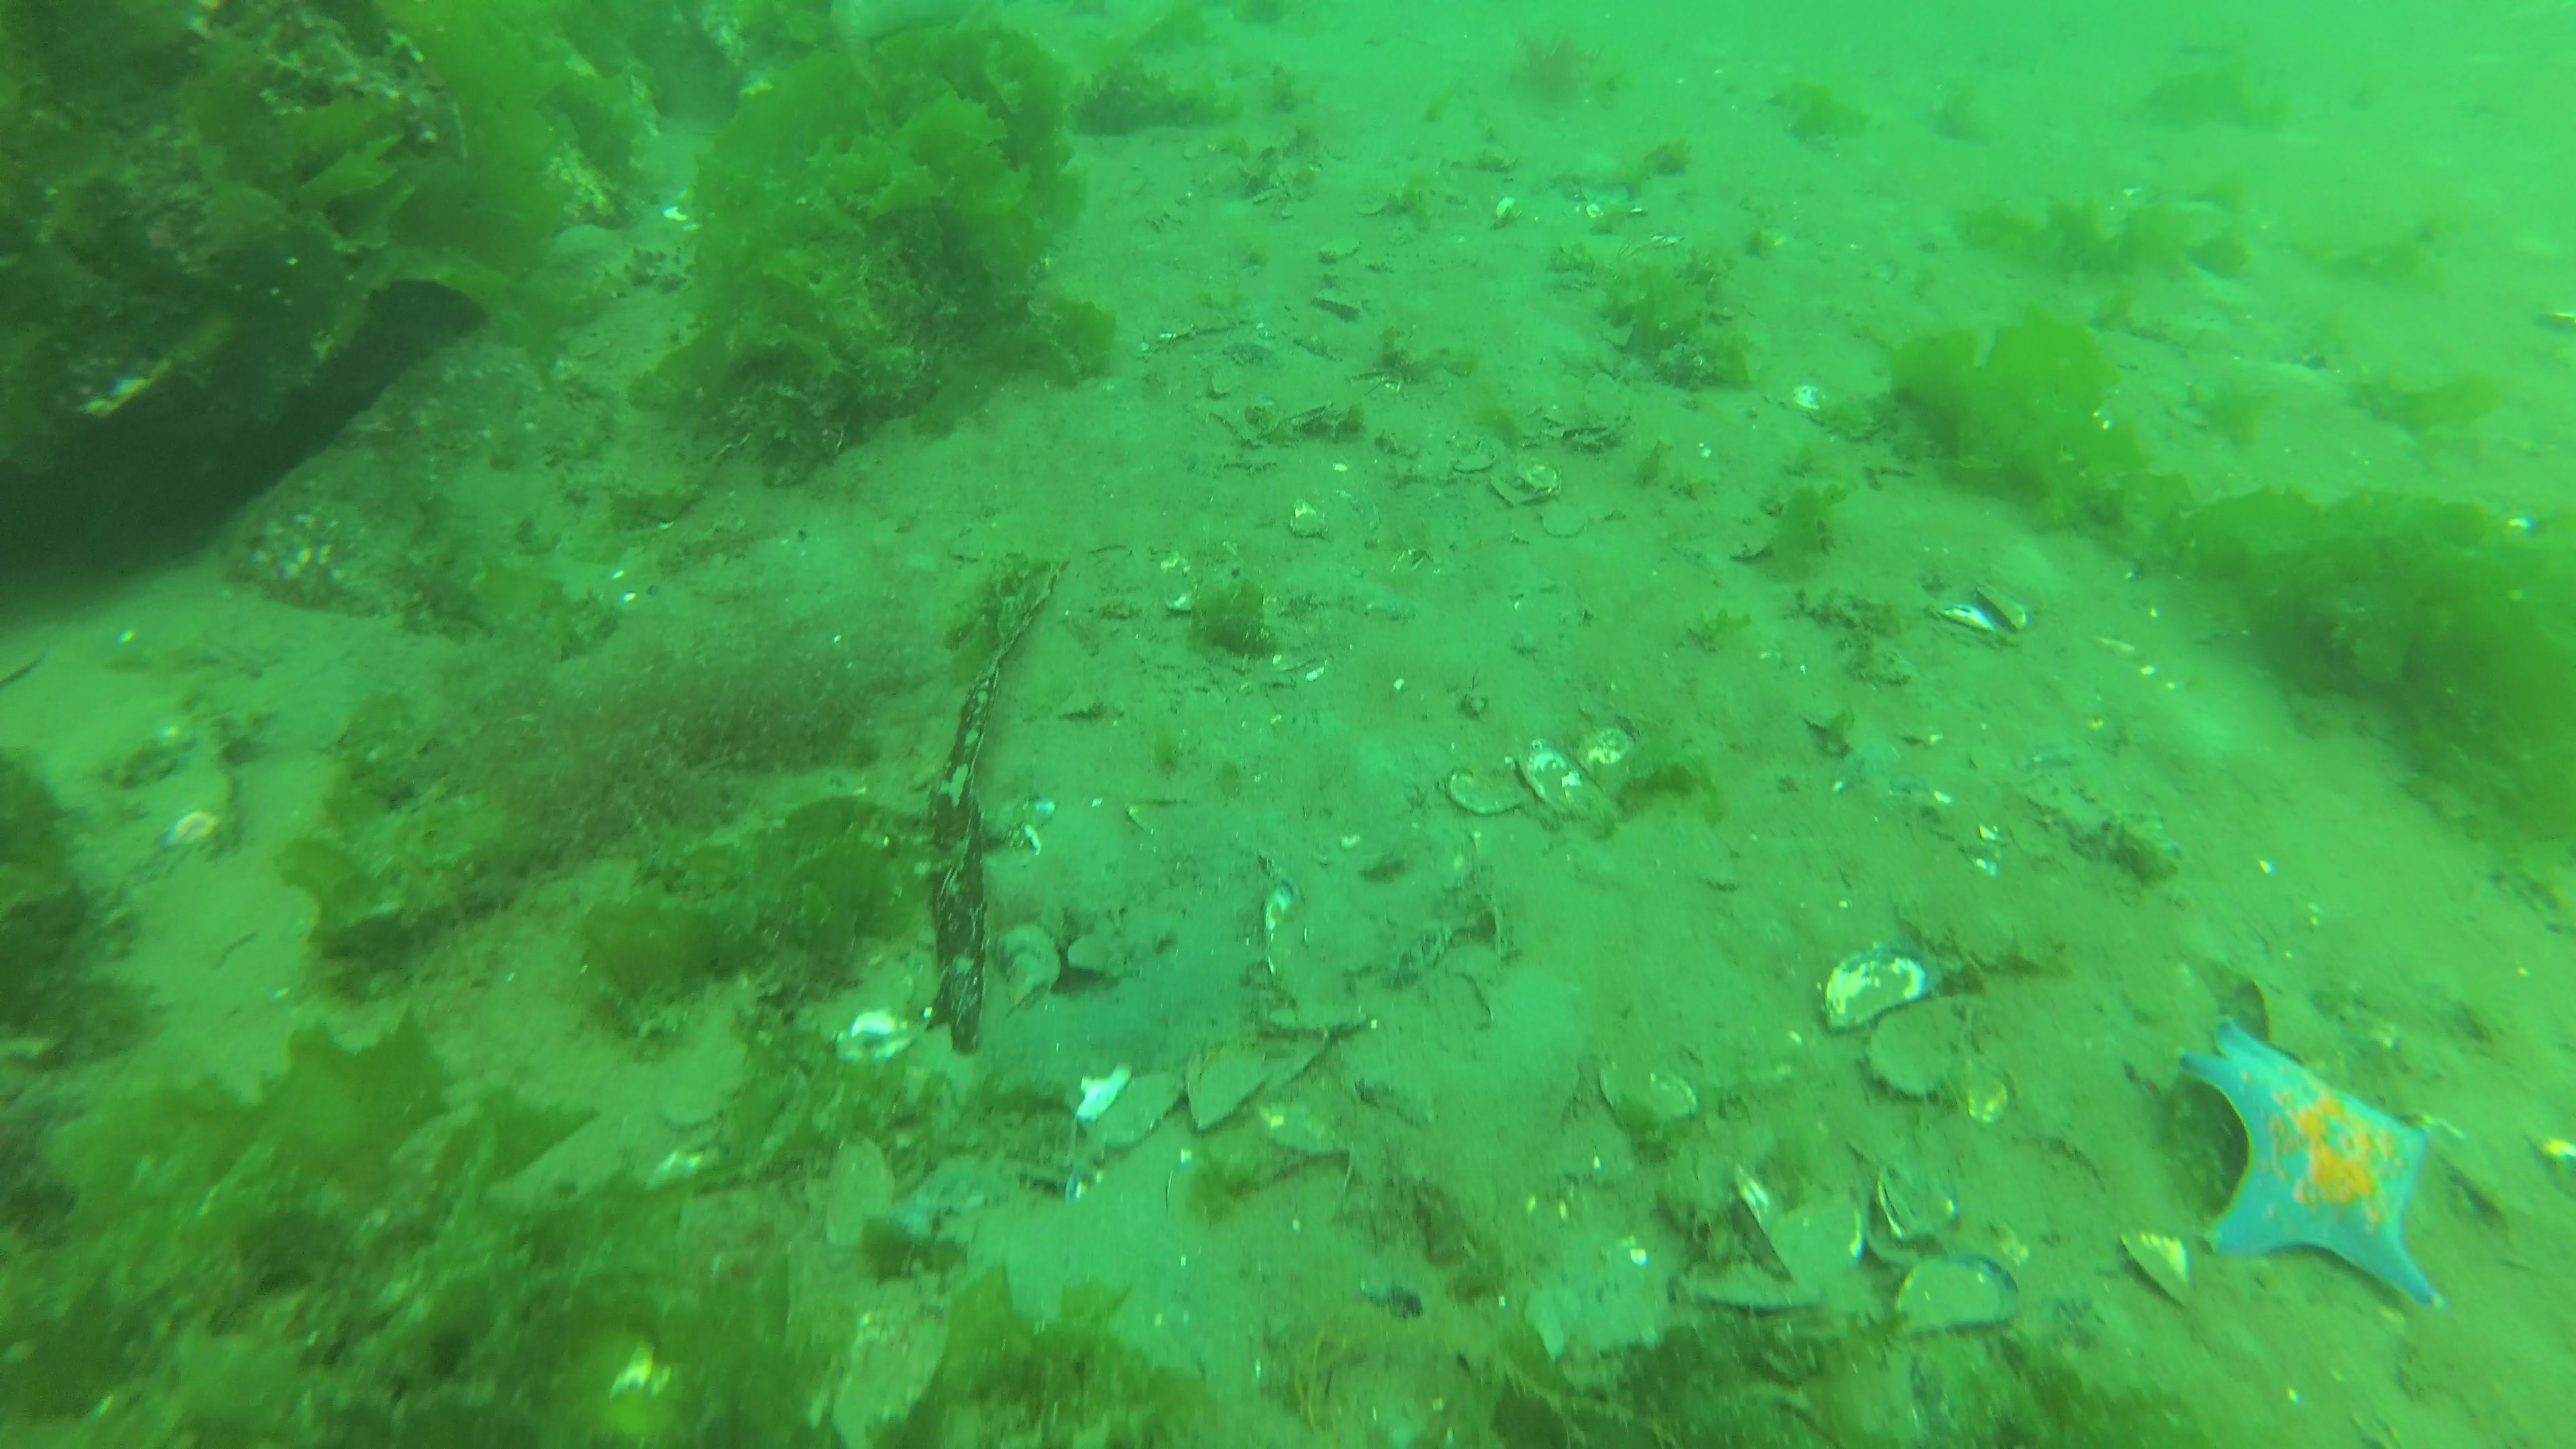starfish: (2173, 1010, 2456, 1313)
